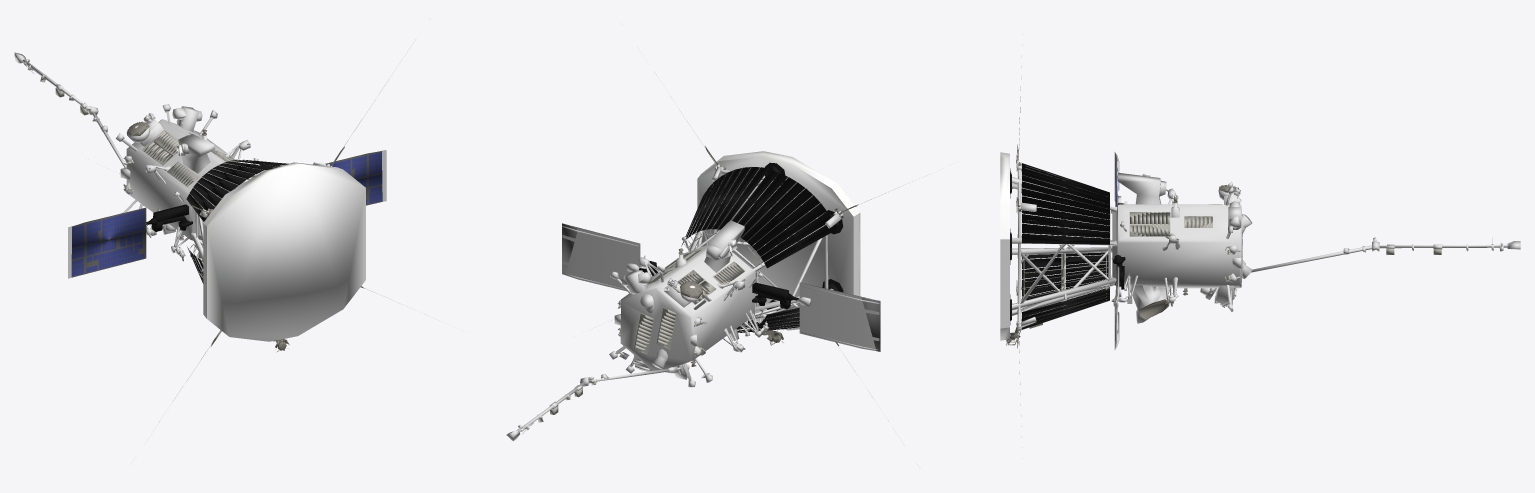
The model's file is parker_lod2.glb.
3 views of the same model, side by side, from view 1: azimuth 30°, elevation 25°; view 2: azimuth 150°, elevation 25°; view 3: azimuth 270°, elevation 25° (orthographic). The views are drawn at different scales.
Visible parts, largest first — view 1: parker_lod2; view 2: parker_lod2; view 3: parker_lod2.
Boxes of the visible parts, <box> form: parker_lod2: <box>14,52,441,421</box>; parker_lod2: <box>506,96,929,440</box>; parker_lod2: <box>1000,34,1520,458</box>.
Bounding box in the file's own units: 5.68 × 5.2 × 6.53.
6 materials, 1 textured.
